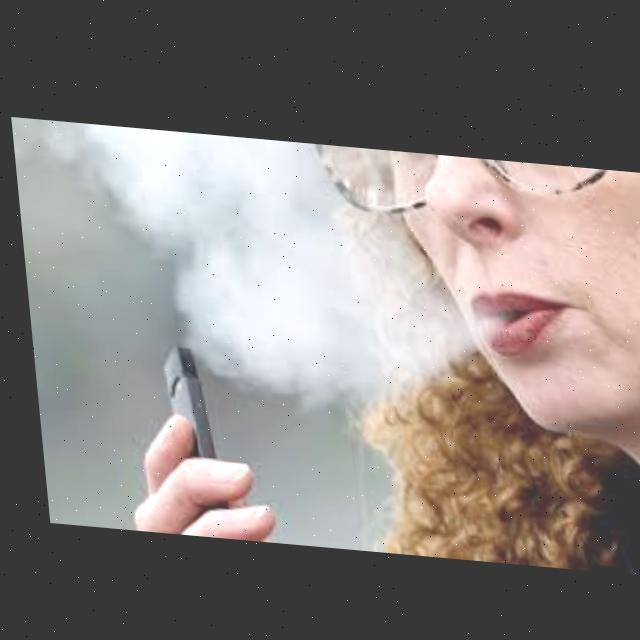vape: (152, 341, 211, 458)
